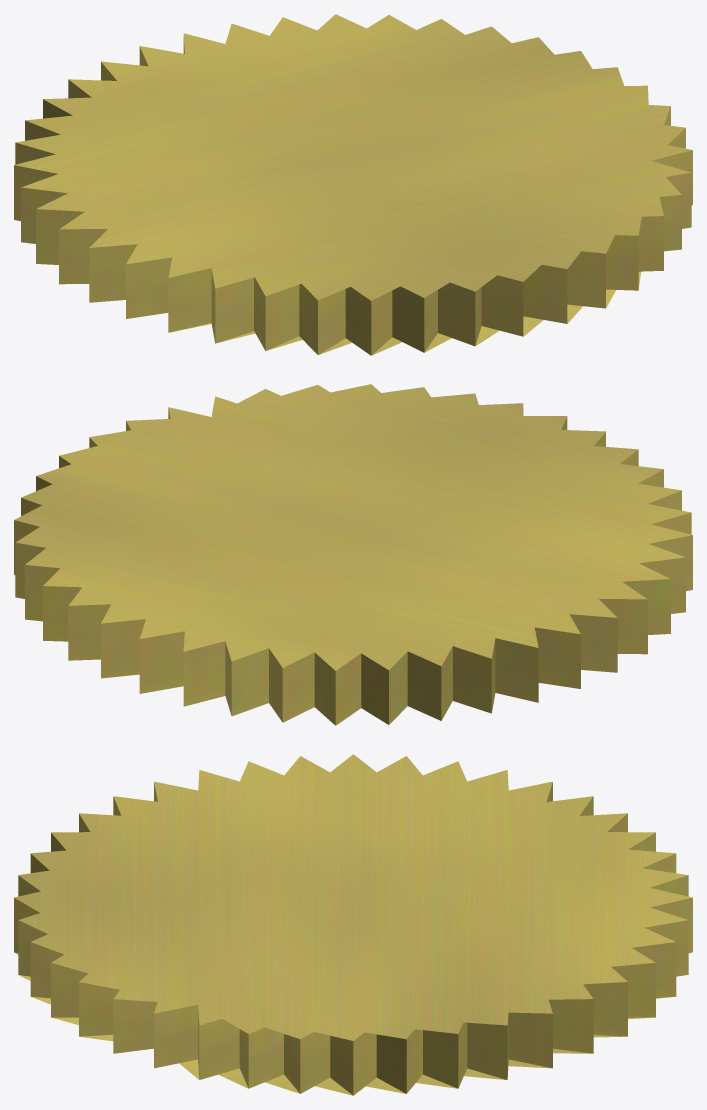
The model's file is ClockStraight3Spoke040.fbx.
The picture shows the model from 3 angles, top to bottom: view 1: azimuth 30°, elevation 25°; view 2: azimuth 150°, elevation 25°; view 3: azimuth 270°, elevation 25°; orthographic projection.
Visible parts, largest first — view 1: ClockStraight3Spoke040; view 2: ClockStraight3Spoke040; view 3: ClockStraight3Spoke040.
Boxes of the visible parts, left/top/right/bottom form: ClockStraight3Spoke040: left=14, top=14, right=692, bottom=355; ClockStraight3Spoke040: left=14, top=384, right=692, bottom=725; ClockStraight3Spoke040: left=14, top=754, right=692, bottom=1095.
Bounding box in the file's own units: 221 × 19.69 × 221.
